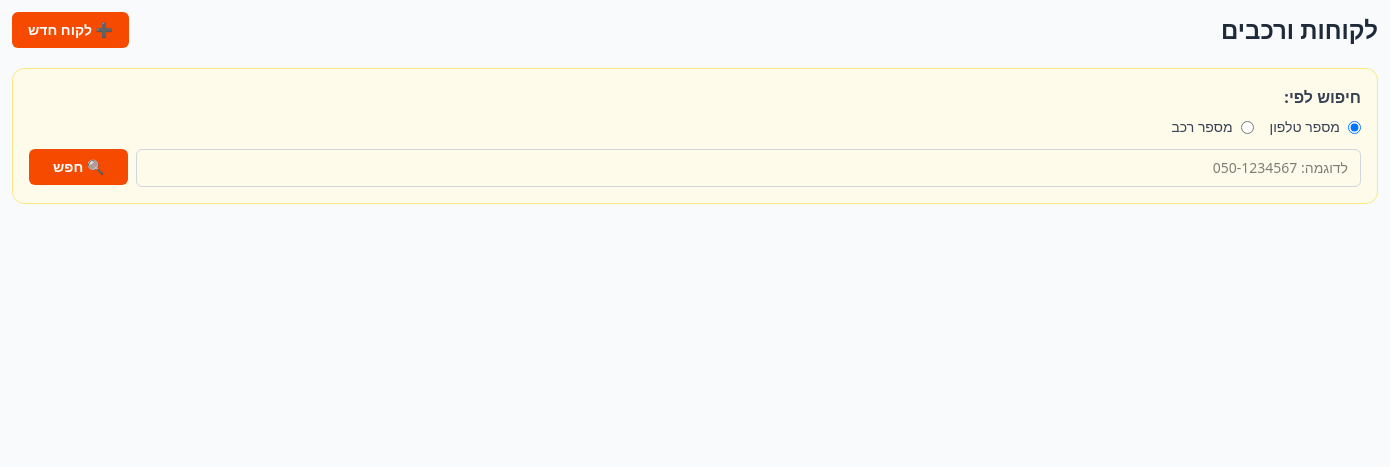
Test: CustomersPage — search › searches by phone number and shows the matched customer detail
The width and height of the screenshot is (1390, 467).
Type "0501234567" into the field at (749, 168), box [136, 149, 1361, 187]
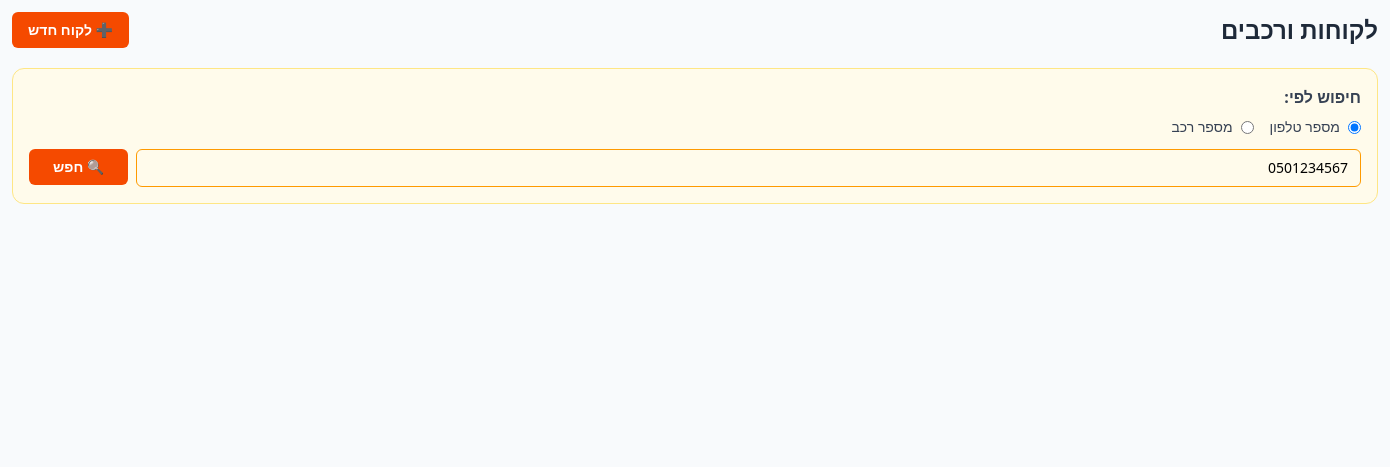
Click the button "🔍 חפש" at (79, 167), box [29, 149, 128, 185]
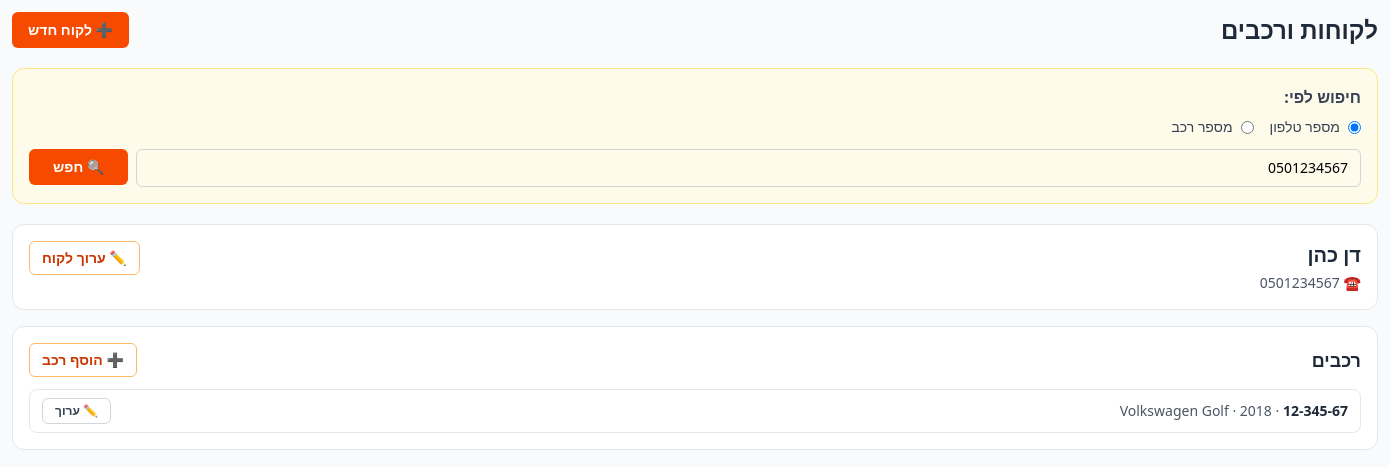
Expected: the heading "דן כהן" is shown, [1308, 241, 1361, 268]
